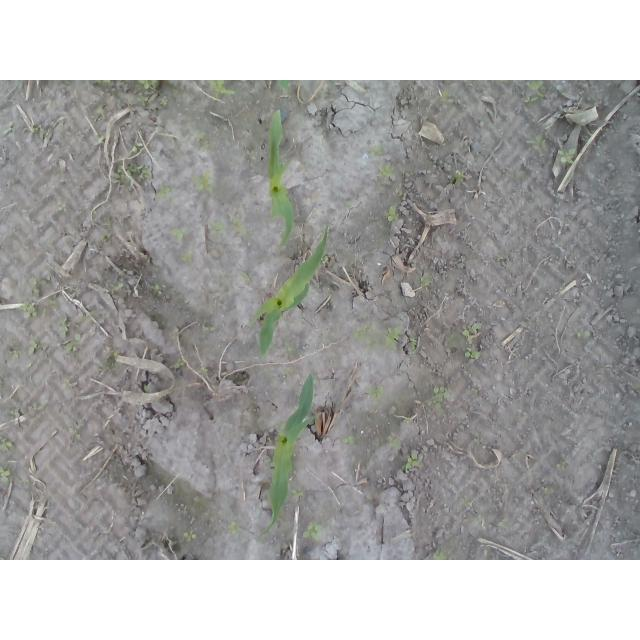Maize: (253, 224, 331, 356), (262, 371, 316, 534), (265, 109, 295, 247)
Weeds: (351, 325, 401, 350), (112, 162, 151, 188), (207, 80, 241, 101), (190, 170, 214, 192), (527, 80, 545, 105), (525, 134, 547, 154), (403, 449, 423, 471), (18, 300, 38, 320), (303, 521, 322, 541), (194, 129, 210, 152), (432, 386, 448, 409), (229, 217, 247, 237), (31, 278, 50, 296), (559, 146, 578, 164), (376, 160, 396, 177), (463, 344, 482, 360), (57, 318, 72, 338), (170, 227, 190, 242), (415, 274, 434, 289), (384, 206, 400, 223), (134, 80, 161, 90), (463, 321, 481, 336), (367, 386, 385, 401), (199, 319, 218, 333), (62, 339, 79, 354), (28, 338, 43, 355), (95, 233, 113, 247), (63, 425, 81, 439), (58, 317, 69, 339), (156, 183, 171, 199), (1, 436, 16, 452), (1, 463, 12, 484), (178, 249, 193, 264), (439, 89, 454, 104), (208, 222, 225, 235), (432, 548, 449, 561), (133, 94, 151, 106), (227, 520, 241, 535), (368, 144, 385, 156), (388, 432, 400, 449), (147, 282, 161, 296), (452, 169, 466, 183), (284, 336, 296, 352), (7, 350, 21, 363), (183, 530, 198, 542), (276, 81, 292, 92), (80, 311, 97, 321), (7, 407, 22, 418), (167, 82, 177, 98), (31, 403, 47, 413), (62, 378, 74, 391), (110, 283, 124, 294), (0, 126, 14, 137), (577, 328, 592, 338), (96, 88, 112, 97), (410, 335, 418, 353), (342, 433, 354, 445), (103, 216, 114, 229), (130, 143, 144, 153), (290, 486, 304, 496), (446, 338, 455, 353), (240, 270, 251, 282), (175, 503, 187, 514), (95, 132, 105, 145), (57, 200, 67, 213), (167, 331, 178, 342), (175, 357, 185, 369), (556, 459, 565, 472), (105, 356, 114, 369), (31, 125, 41, 135), (160, 97, 170, 107), (198, 367, 208, 377), (327, 80, 337, 90), (39, 307, 49, 317), (495, 521, 509, 528), (47, 295, 56, 305), (465, 501, 474, 511), (96, 80, 112, 85), (288, 367, 297, 375), (143, 384, 150, 393), (403, 416, 410, 424), (320, 257, 328, 264), (544, 488, 549, 497), (90, 208, 97, 214), (304, 239, 307, 246)
